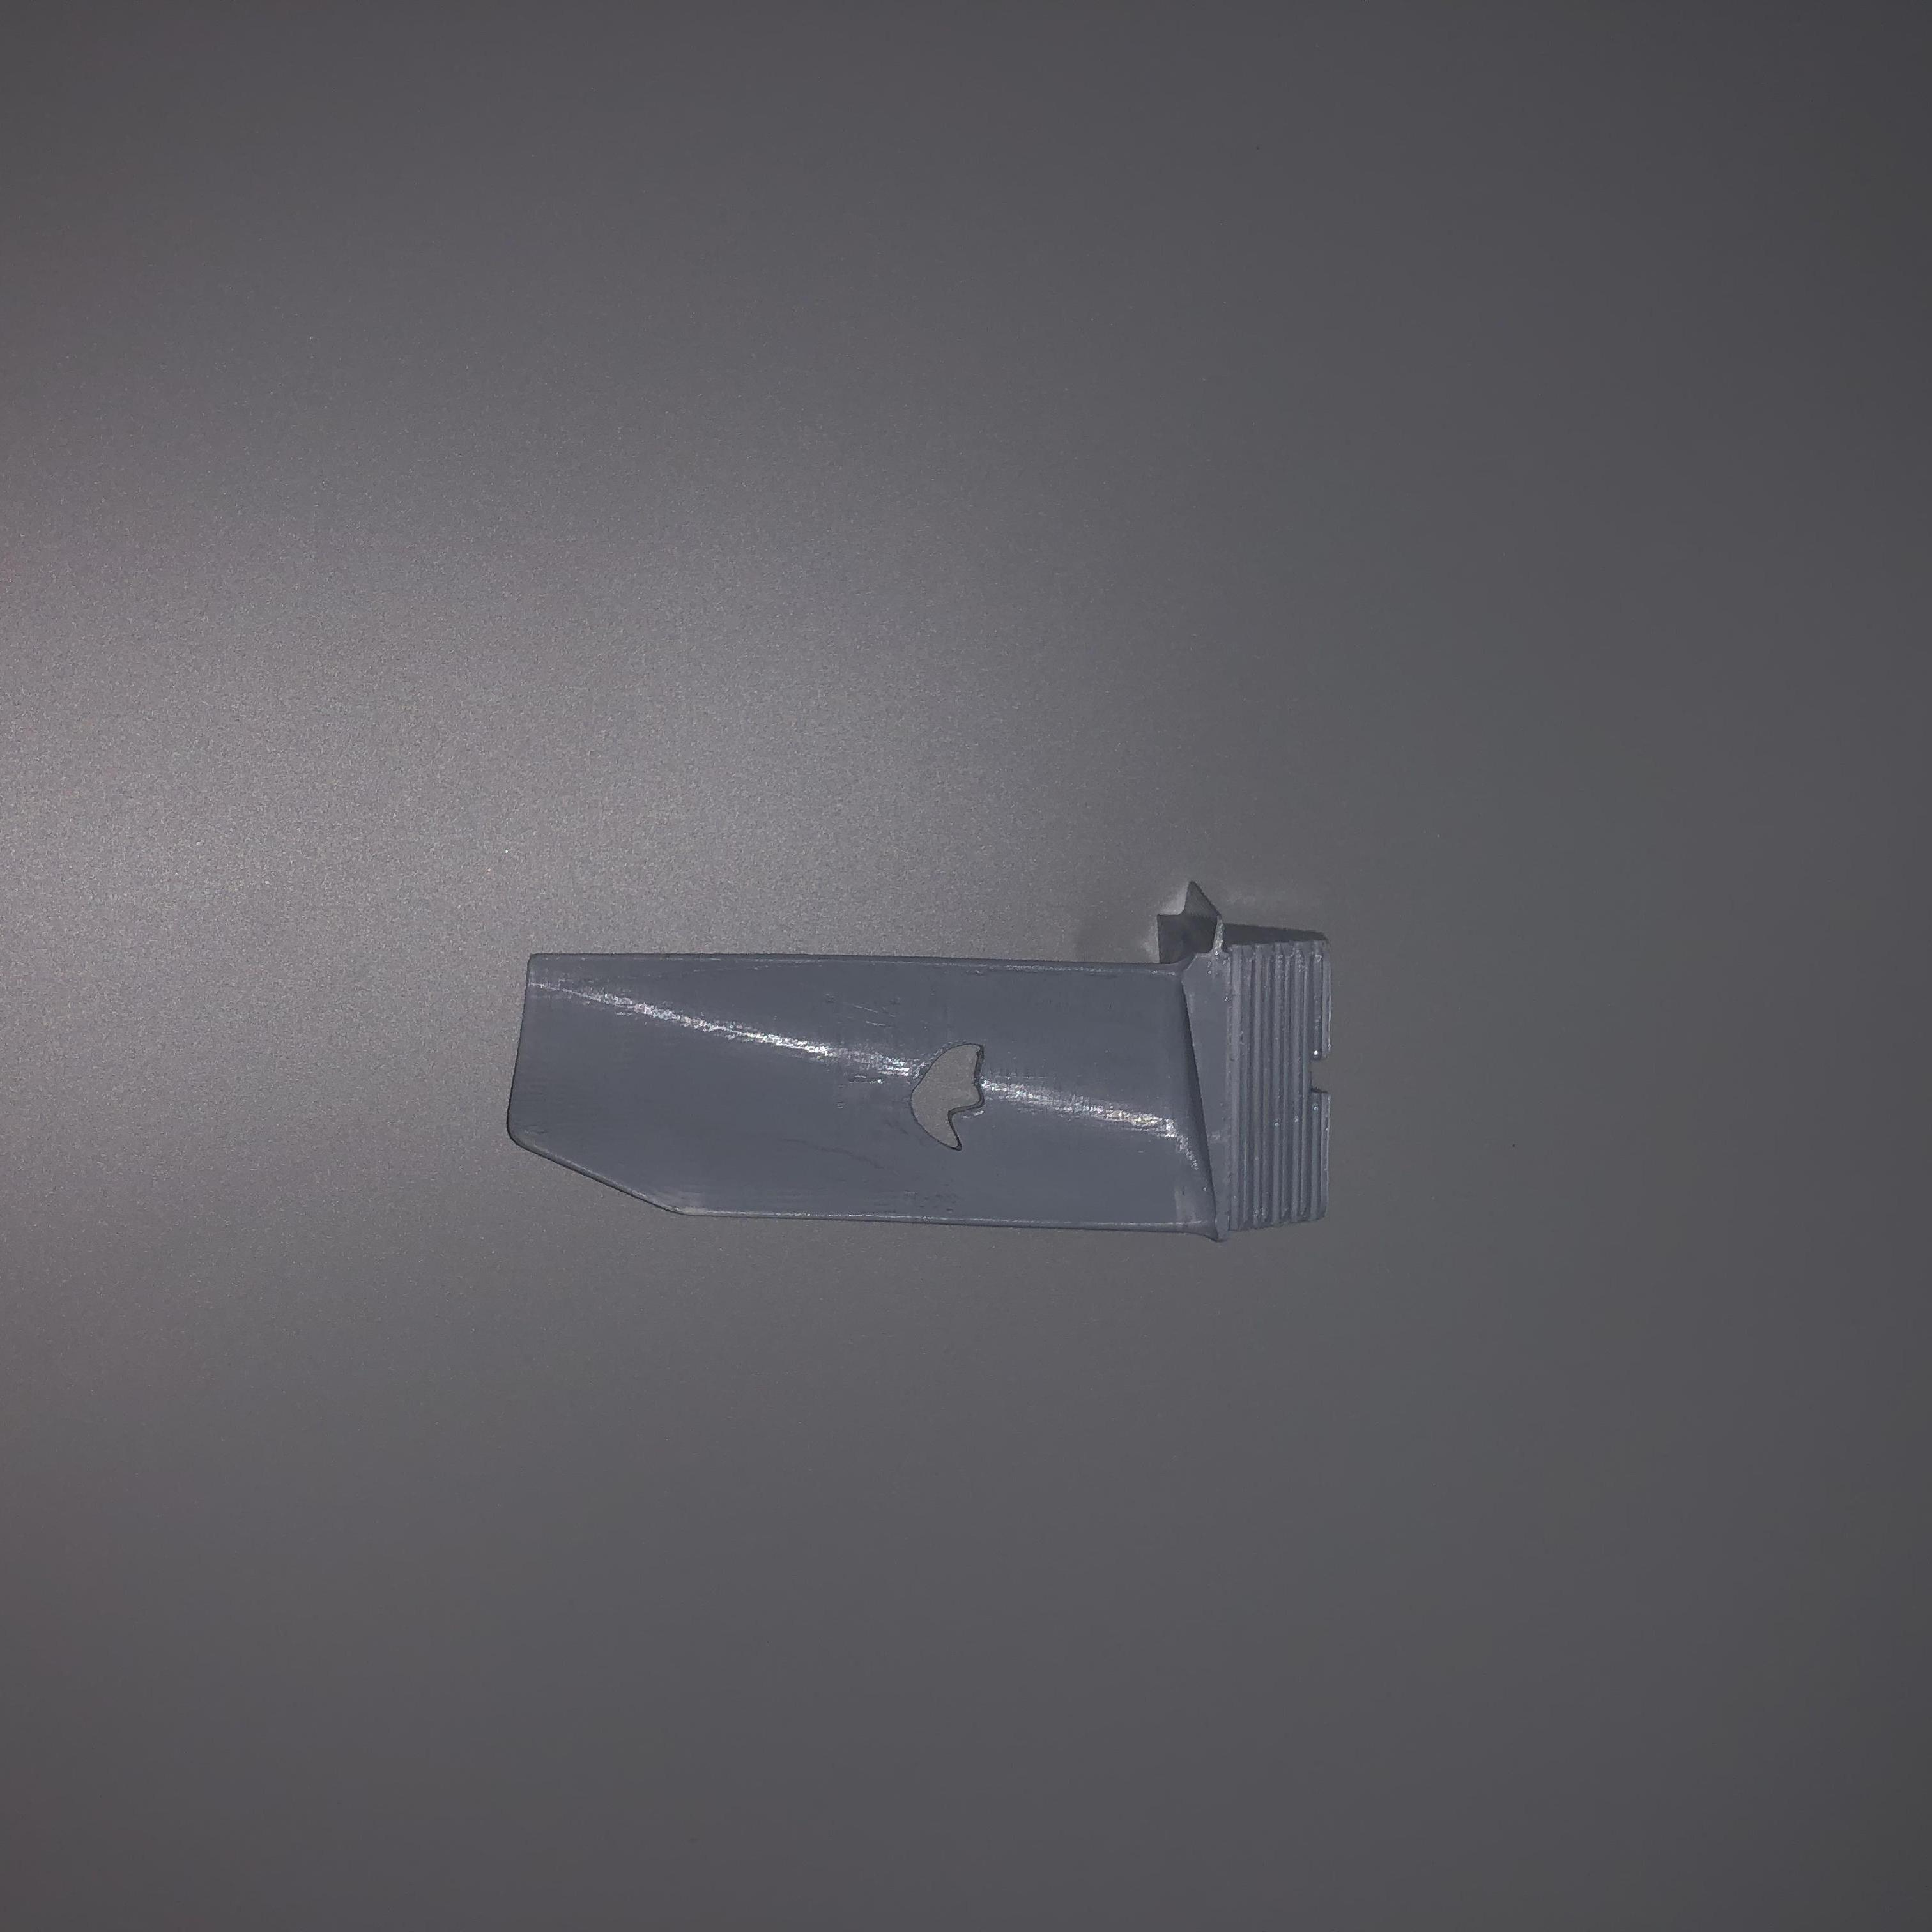breakdown: (897, 1035, 996, 1154)
